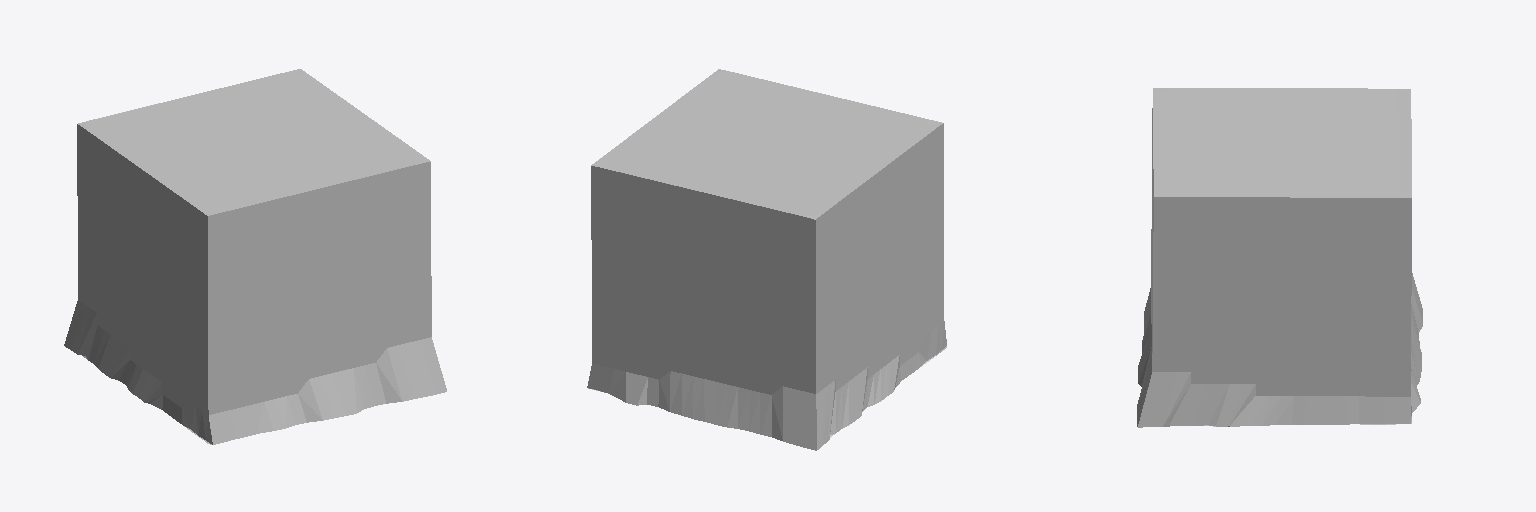
The model's file is mod0124.obj.
3 renders of one model, left to right at view 1: azimuth 30°, elevation 25°; view 2: azimuth 150°, elevation 25°; view 3: azimuth 270°, elevation 25°, orthographic.
Parts seen in each view (by area): view 1: Box001; view 2: Box001; view 3: Box001.
Part boxes in pixels (bbox=[...]): Box001: bbox=[64, 69, 446, 444]; Box001: bbox=[587, 69, 946, 450]; Box001: bbox=[1137, 88, 1422, 427].
Size of the model in its own units: 0.5799 by 0.5233 by 0.5979.